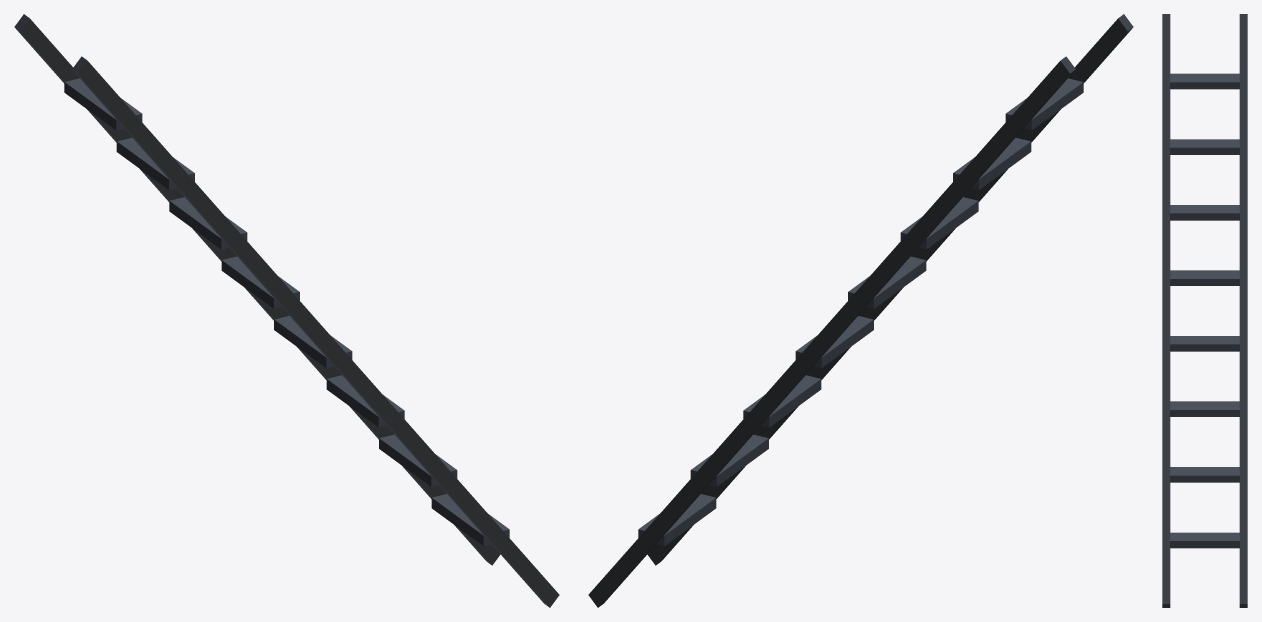
File: TB_CITY_BD_Stair_B.FBX
3 views of the same model, side by side, from view 1: azimuth 30°, elevation 25°; view 2: azimuth 150°, elevation 25°; view 3: azimuth 270°, elevation 25° (orthographic). The views are drawn at different scales.
Visible parts, largest first — view 1: TB_CITY_BD_Stair_B; view 2: TB_CITY_BD_Stair_B; view 3: TB_CITY_BD_Stair_B.
Part boxes in pixels (x1=…): TB_CITY_BD_Stair_B: x1=14, y1=14, x2=559, y2=607; TB_CITY_BD_Stair_B: x1=588, y1=14, x2=1133, y2=607; TB_CITY_BD_Stair_B: x1=1162, y1=14, x2=1247, y2=607.
Bounding box in the file's own units: 3.77 × 4.93 × 0.8613.
